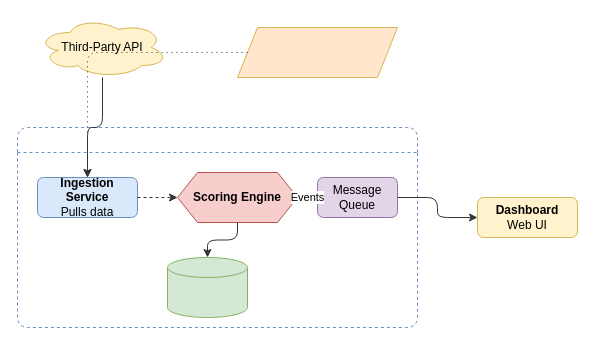
The diagram is 595 pixels wide and 345 high, and some of its shapes have lost their labels. The box of each missing label's shape, as (x1, y1, x2, y2) in pixels:
Core System: (16, 126, 418, 328)
Data Feed: (236, 26, 398, 78)
PostgreSQL: (166, 256, 248, 318)
